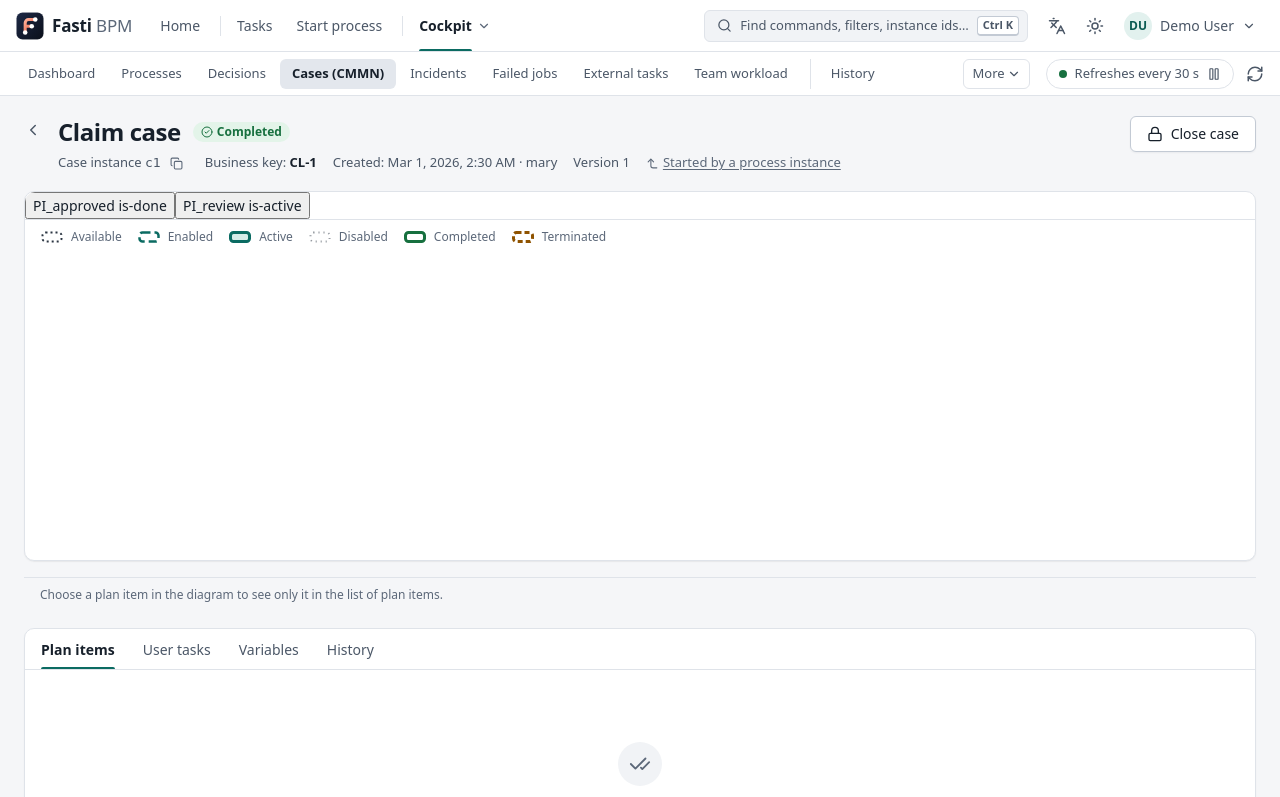
Test case: a case instance › shows the case read only from the history once it is closed on the page
Click the button "Close case" at (1193, 134), box x1=1130 y1=116 x2=1256 y2=152
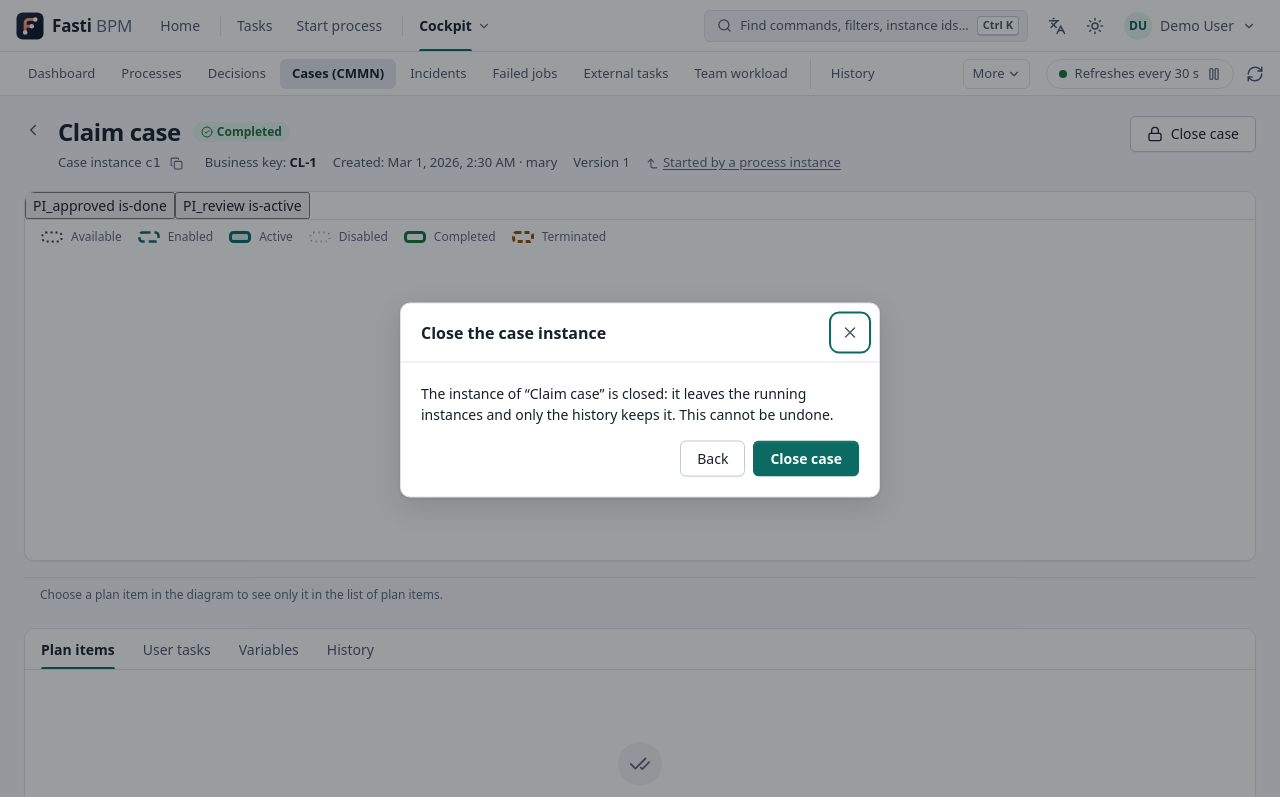
Click the button "Close case" at (806, 458), box x1=753 y1=440 x2=859 y2=476
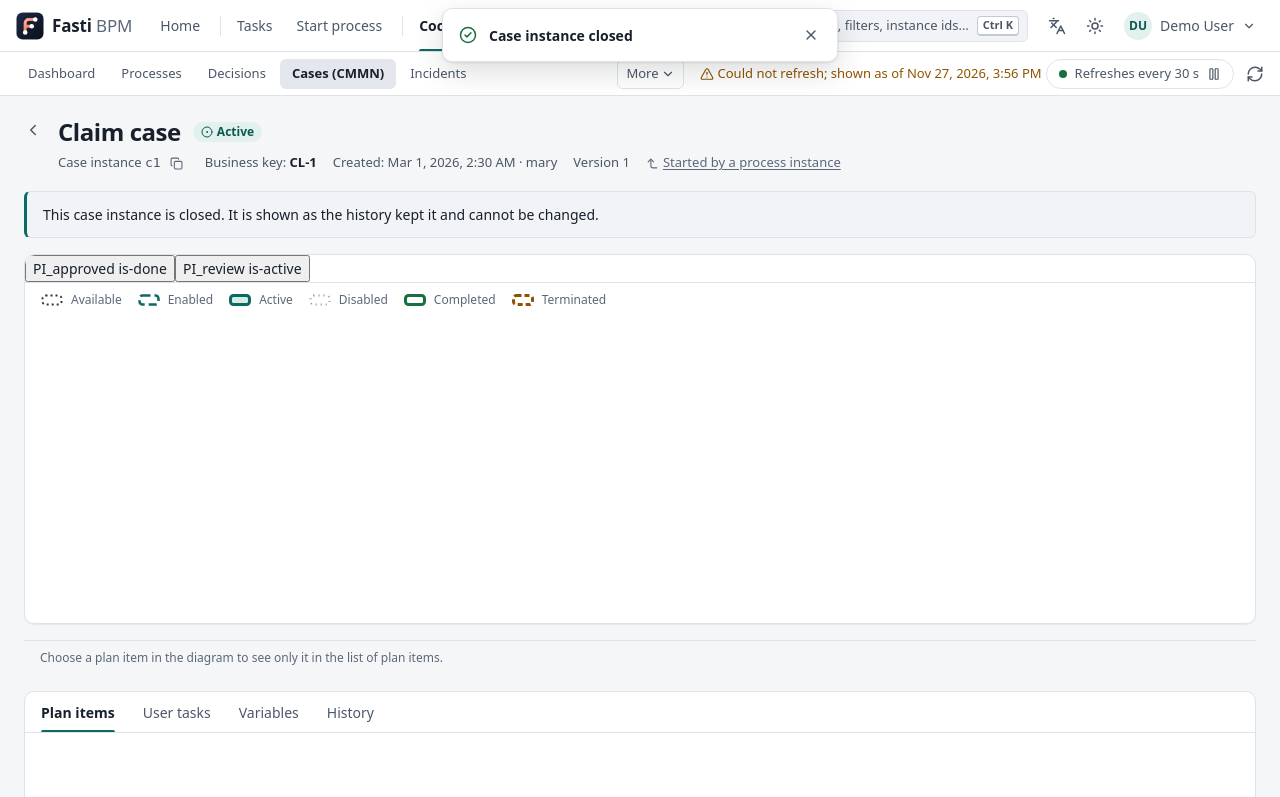
Check: the text "This case instance is closed" is shown, box x1=43 y1=205 x2=599 y2=224
Check: the button "Close case" is gone
Click the tab "Variables" at (269, 712), box x1=227 y1=692 x2=311 y2=732
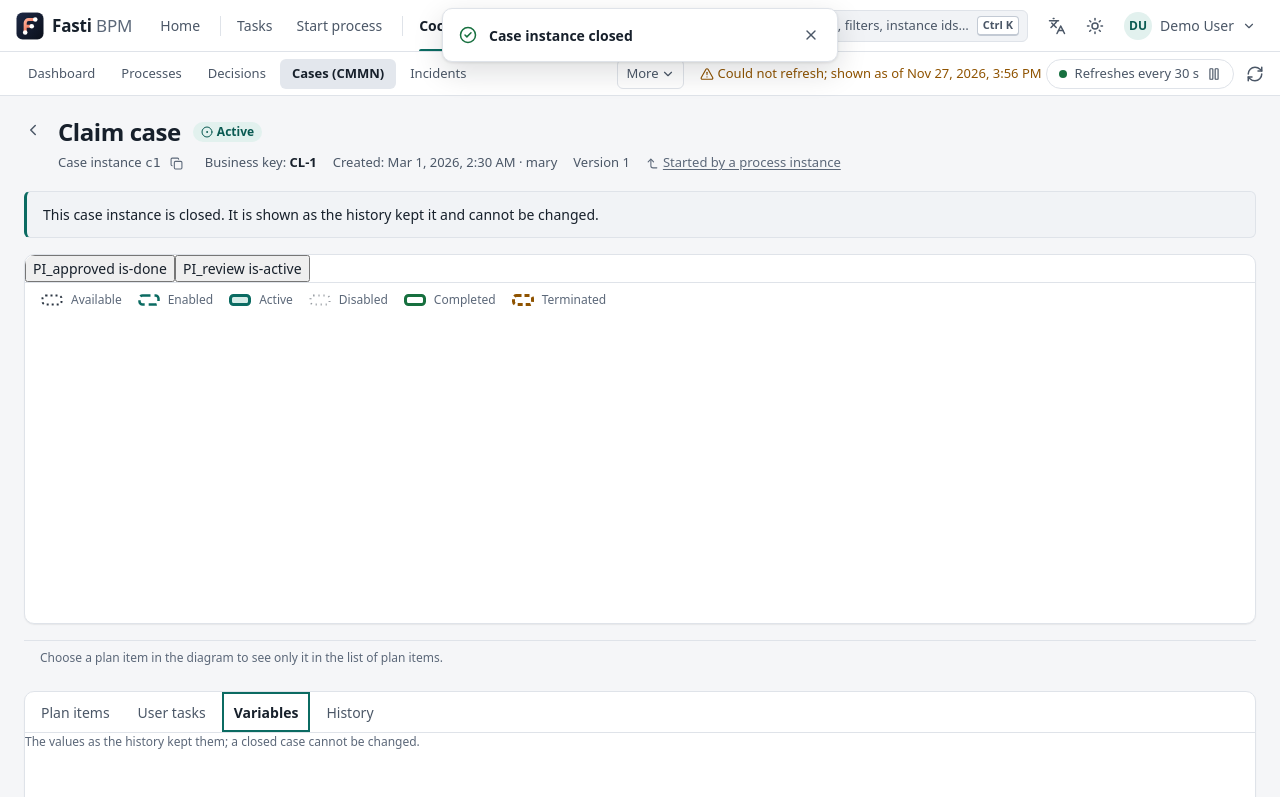
Check: the text "a closed case cannot be changed" is shown, box x1=25 y1=733 x2=420 y2=750
